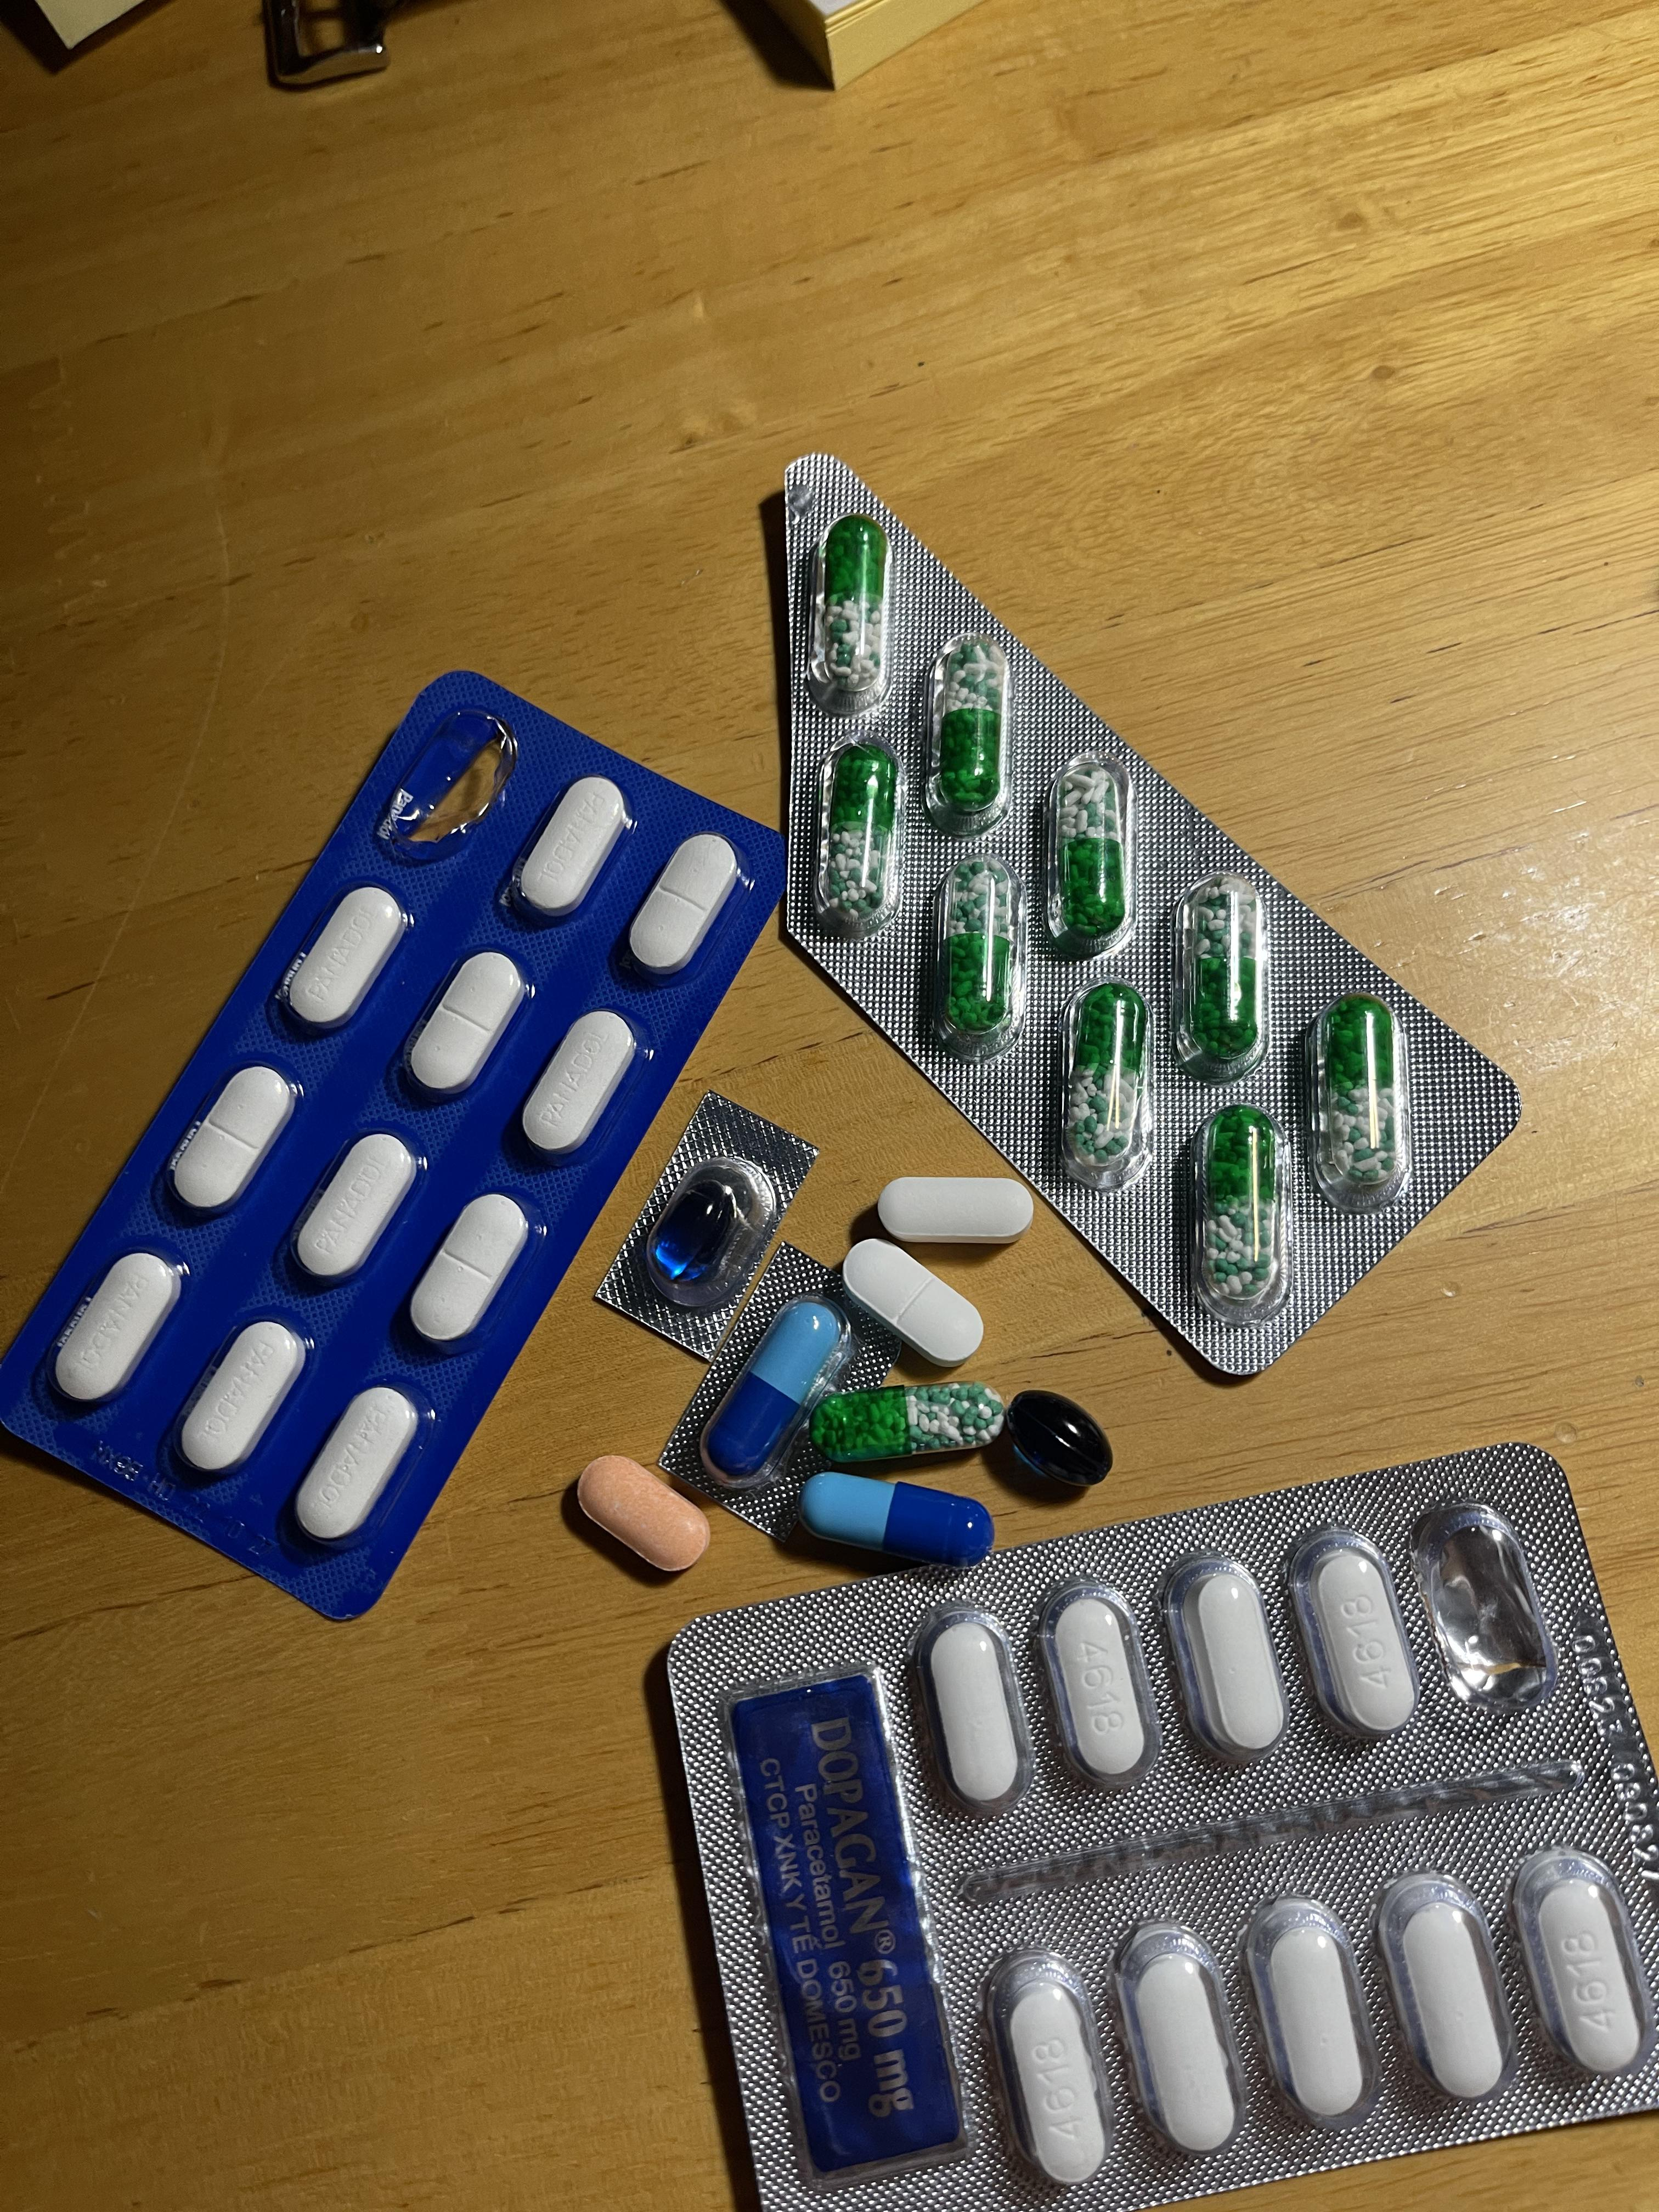Lincomyxin_500mg: (1011, 1385, 1114, 1489), (650, 1179, 739, 1282)
Loratadine_10mg: (580, 1458, 711, 1575)
Paracetamol_350mg: (178, 1317, 310, 1477), (295, 1383, 423, 1547), (54, 1249, 185, 1407), (279, 887, 410, 1038), (289, 1132, 416, 1287), (519, 1007, 641, 1162), (410, 1193, 528, 1350), (173, 1062, 296, 1212), (840, 1237, 986, 1362), (408, 949, 528, 1101), (626, 829, 741, 979), (512, 775, 629, 911)
Paracetamol_500mg: (1129, 1946, 1236, 2153), (1309, 1545, 1420, 1737), (1260, 1919, 1363, 2123), (1398, 1902, 1504, 2099), (1534, 1883, 1642, 2076), (1002, 1984, 1103, 2179), (1187, 1569, 1279, 1757), (929, 1620, 1018, 1803), (1054, 1601, 1147, 1777), (875, 1177, 1033, 1244)
Paracetamol_650mg: (809, 1383, 1006, 1467), (1066, 986, 1145, 1174), (1321, 1000, 1398, 1188), (1202, 1109, 1276, 1294), (823, 749, 897, 925), (1058, 759, 1127, 948), (1188, 880, 1260, 1059), (934, 639, 1007, 812), (943, 859, 1014, 1029), (821, 512, 889, 688)
pill: (702, 1298, 842, 1480), (805, 1487, 992, 1569)
